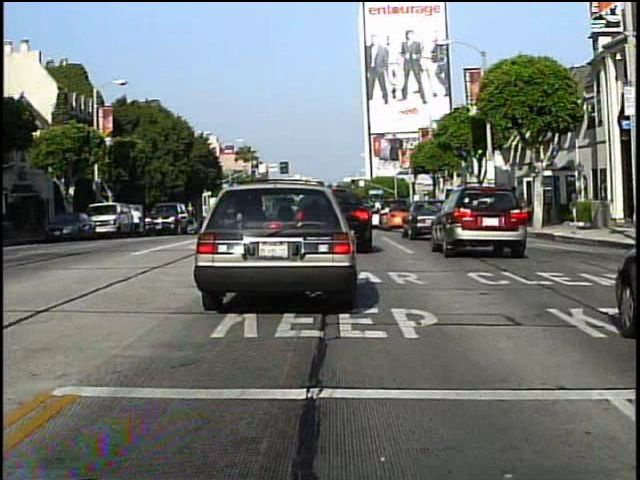person: (132, 203, 145, 238)
